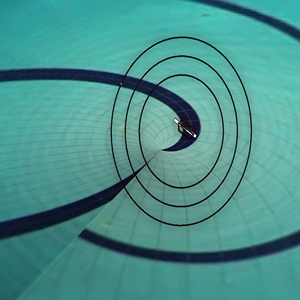circle: (99, 31, 260, 232)
submarine: (164, 109, 203, 153)
